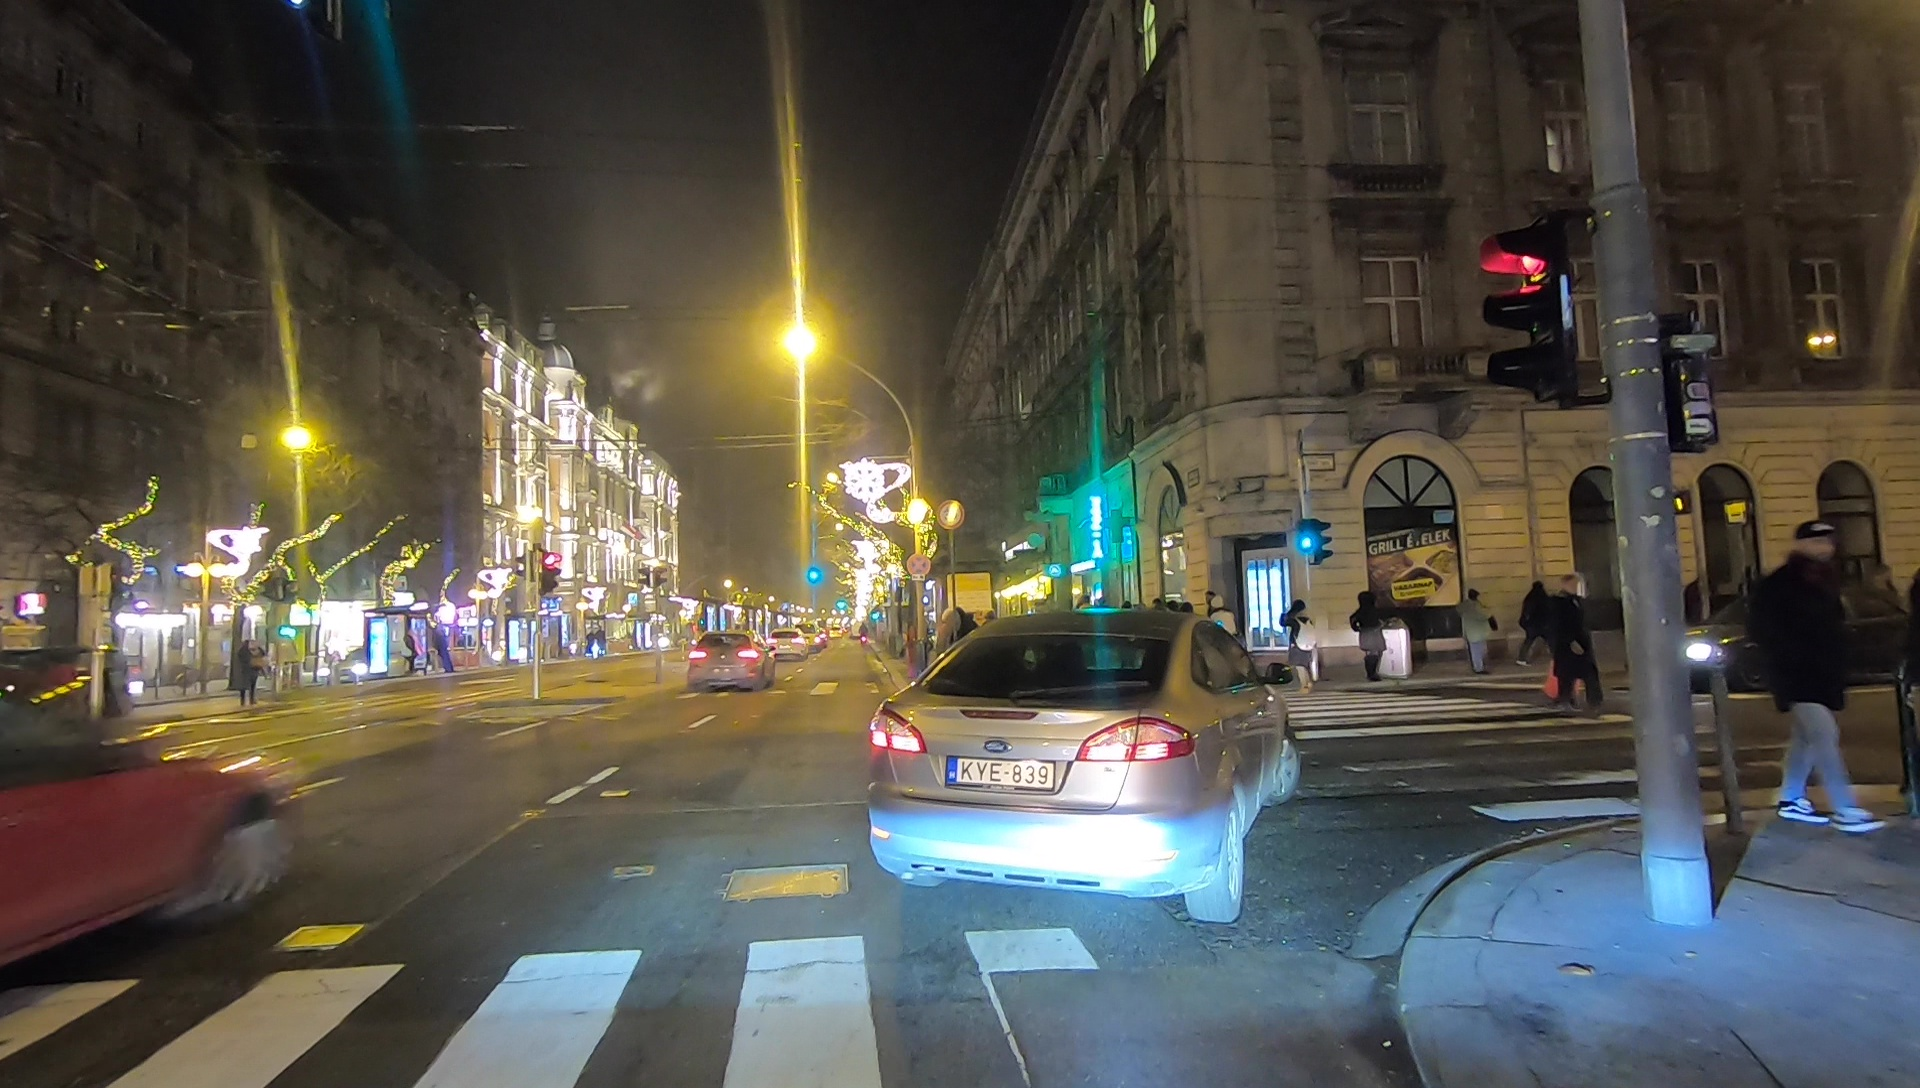person: (1760, 517, 1884, 839), (1545, 573, 1605, 716), (1456, 586, 1499, 673), (1282, 599, 1319, 693), (1517, 576, 1554, 668), (1354, 592, 1386, 676), (236, 637, 261, 704), (1209, 594, 1236, 657), (430, 624, 453, 672), (403, 629, 417, 669)
